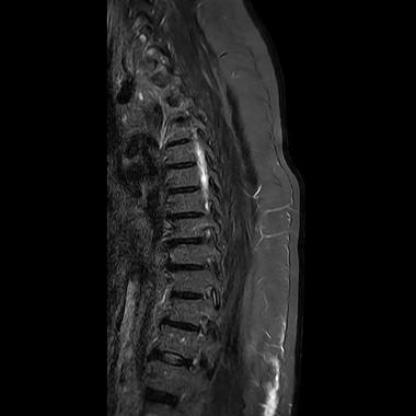Osteophytesrotation: (136, 30, 214, 416)
